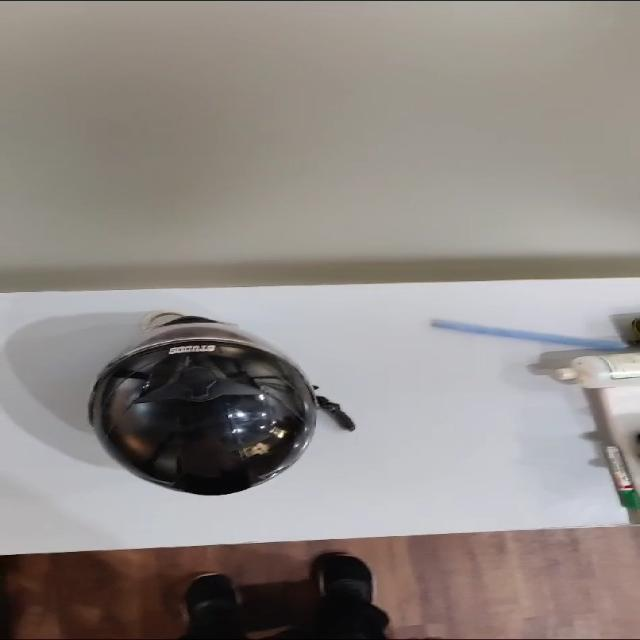helmet: (89, 312, 354, 494)
